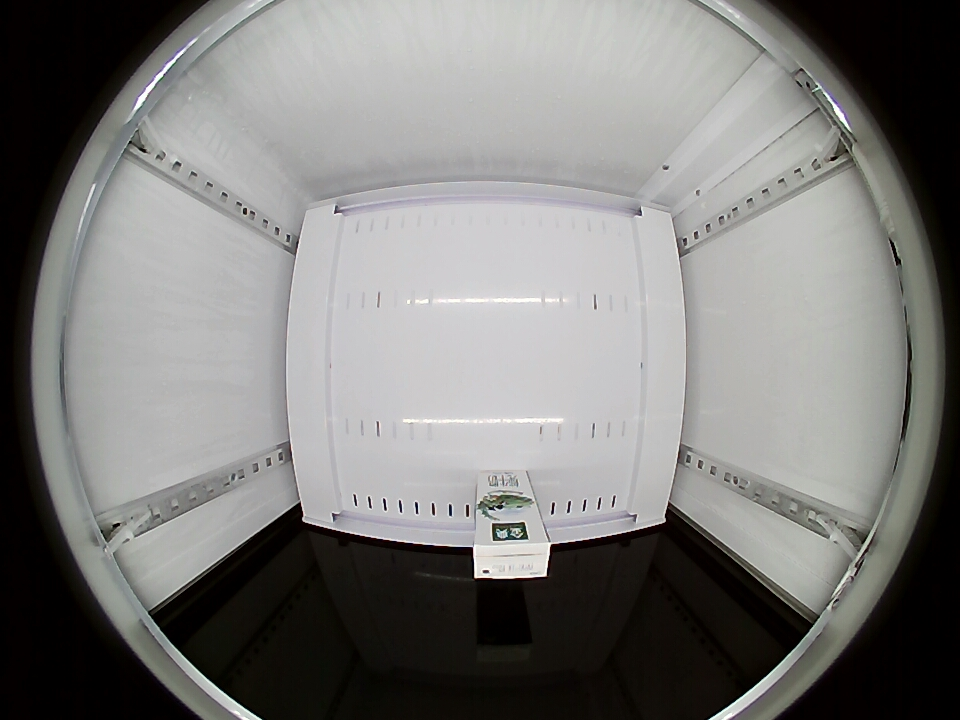jindian: (473, 519, 551, 580)
